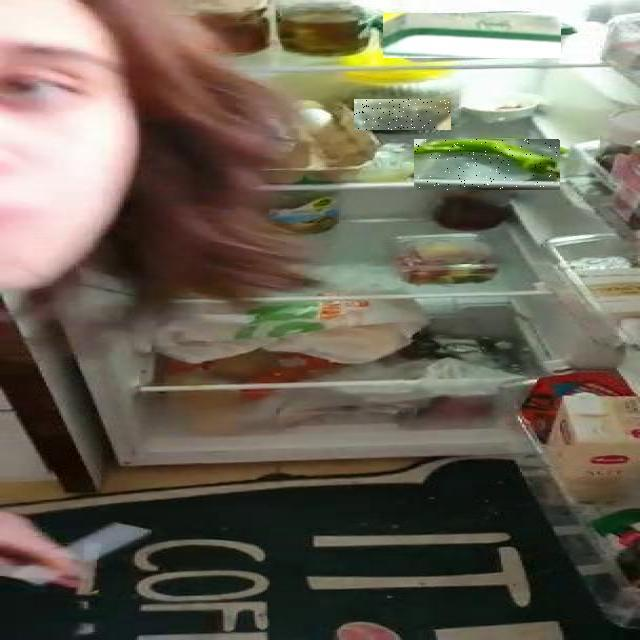Chillies: (415, 139, 561, 190)
Cream: (383, 13, 561, 58)
Olives: (354, 99, 451, 130)
